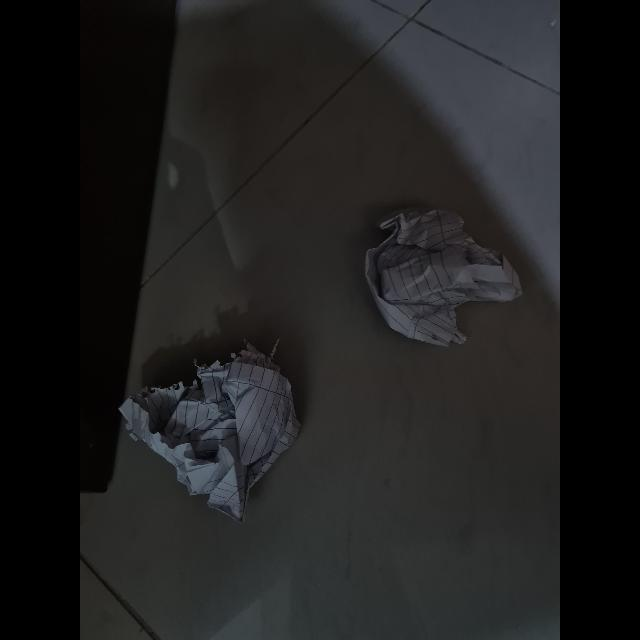scrap_paper: (122, 339, 304, 513), (363, 205, 521, 349)
